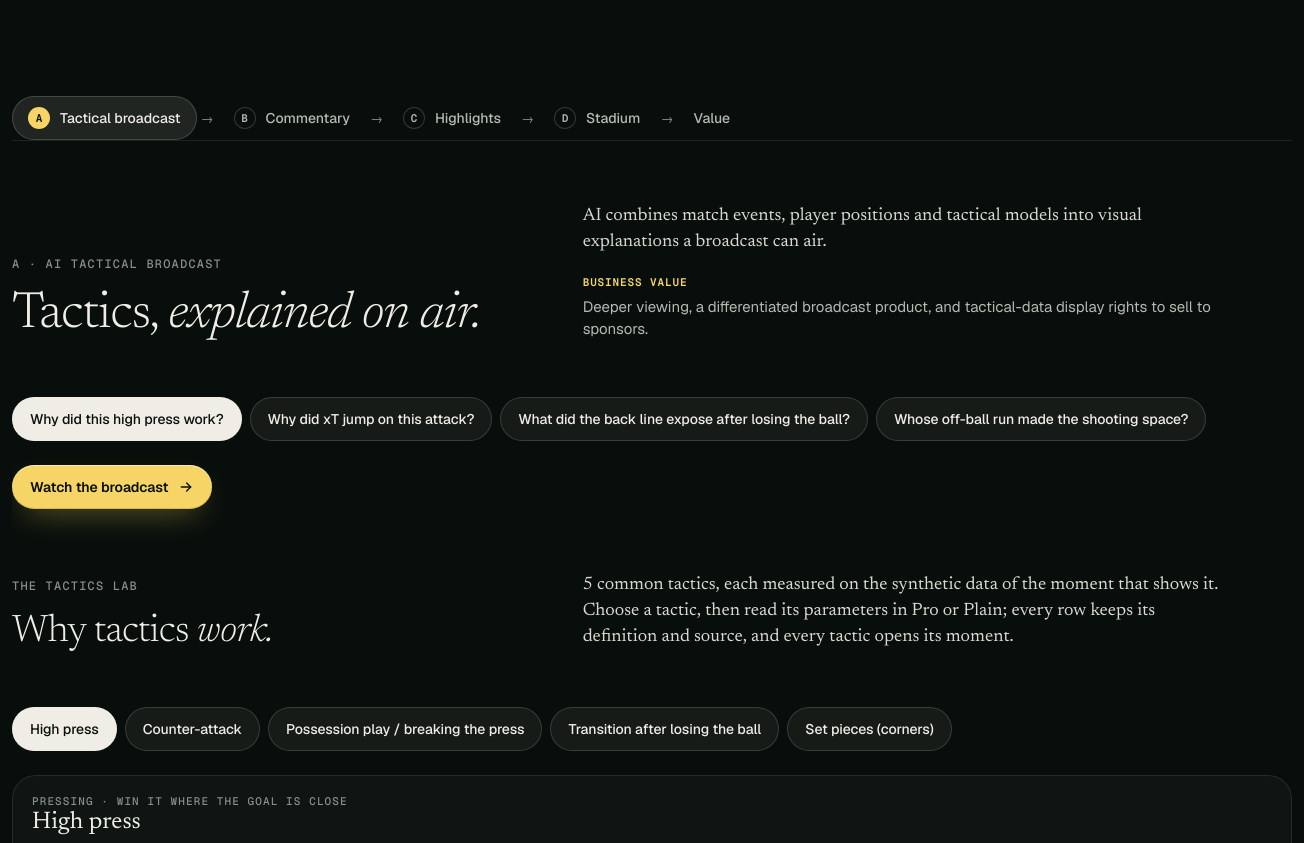
Test: the bar and its panels › D is the stadium's screens for this moment, the studio one click away
The width and height of the screenshot is (1304, 843).
Click the tab "D Stadium".
click(597, 118)  # box [538,96,656,140]
(page scrolled)
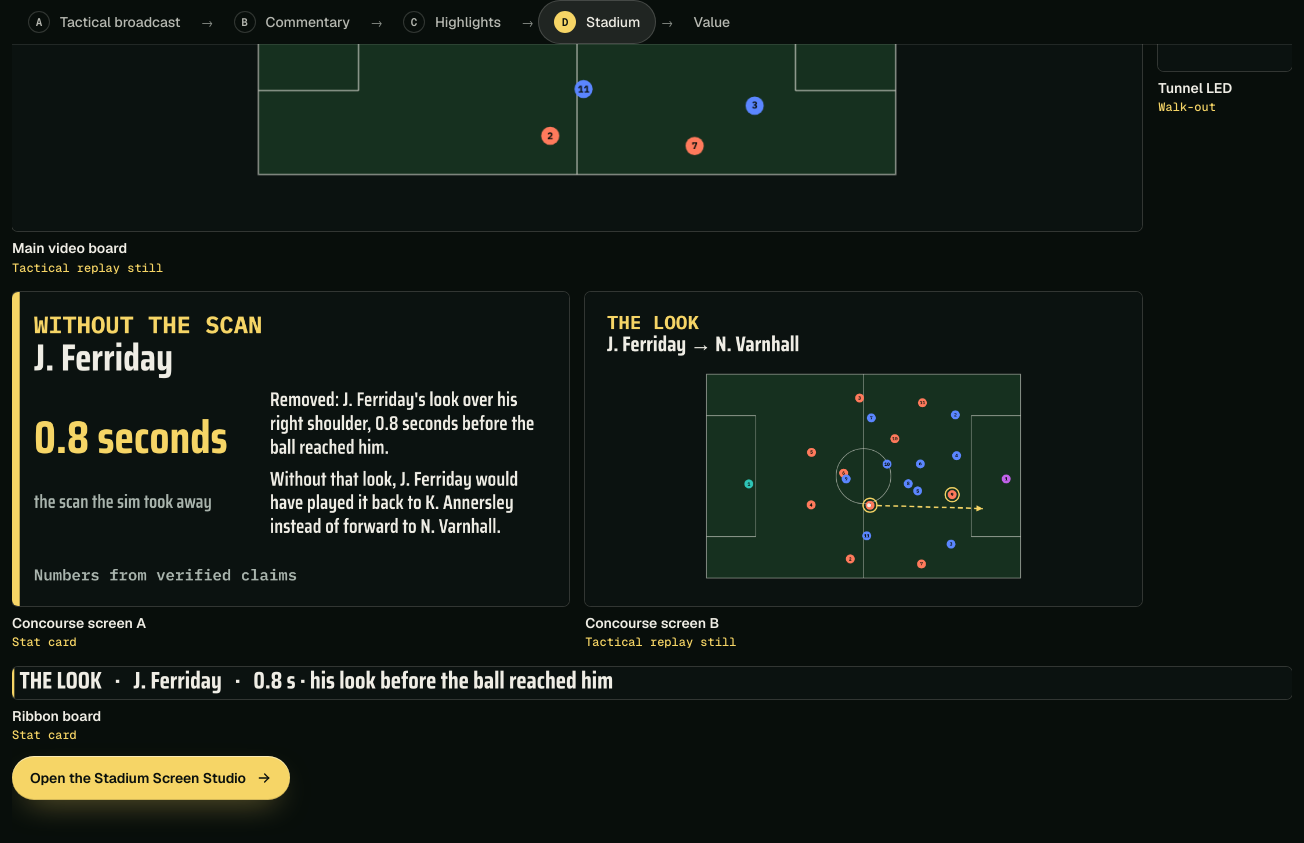
Result: the link "Open the Stadium Screen Studio" is shown at [12,756,290,800]
